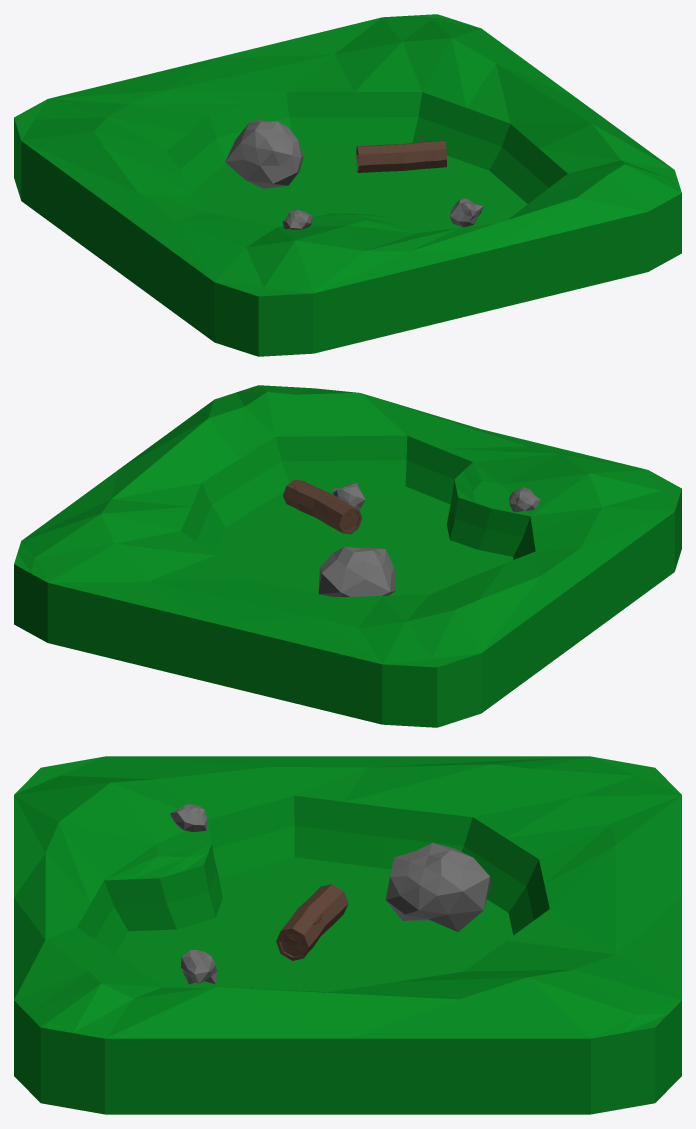
File: jpond.glb
3 renders of one model, top to bottom at view 1: azimuth 30°, elevation 25°; view 2: azimuth 150°, elevation 25°; view 3: azimuth 270°, elevation 25°, orthographic. The views are drawn at different scales.
Visible parts, largest first — view 1: pond, rocks, log; view 2: pond, rocks, log; view 3: pond, rocks, log.
Boxes of the visible parts, bbox=[...] form: pond: bbox=[14, 14, 681, 356]; rocks: bbox=[225, 119, 483, 229]; log: bbox=[356, 131, 446, 172]; pond: bbox=[14, 385, 681, 727]; rocks: bbox=[318, 483, 540, 597]; log: bbox=[283, 479, 362, 534]; pond: bbox=[14, 756, 681, 1114]; rocks: bbox=[170, 804, 491, 984]; log: bbox=[276, 884, 348, 960].
Size of the model in its own units: 6.13 by 1.06 by 6.13.
